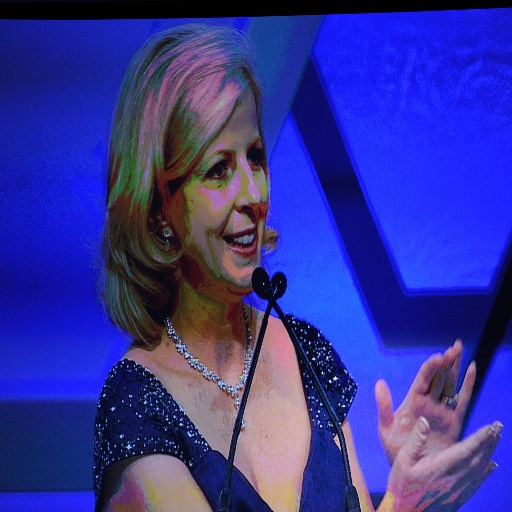hand: (378, 347, 484, 472), (383, 417, 505, 511)
